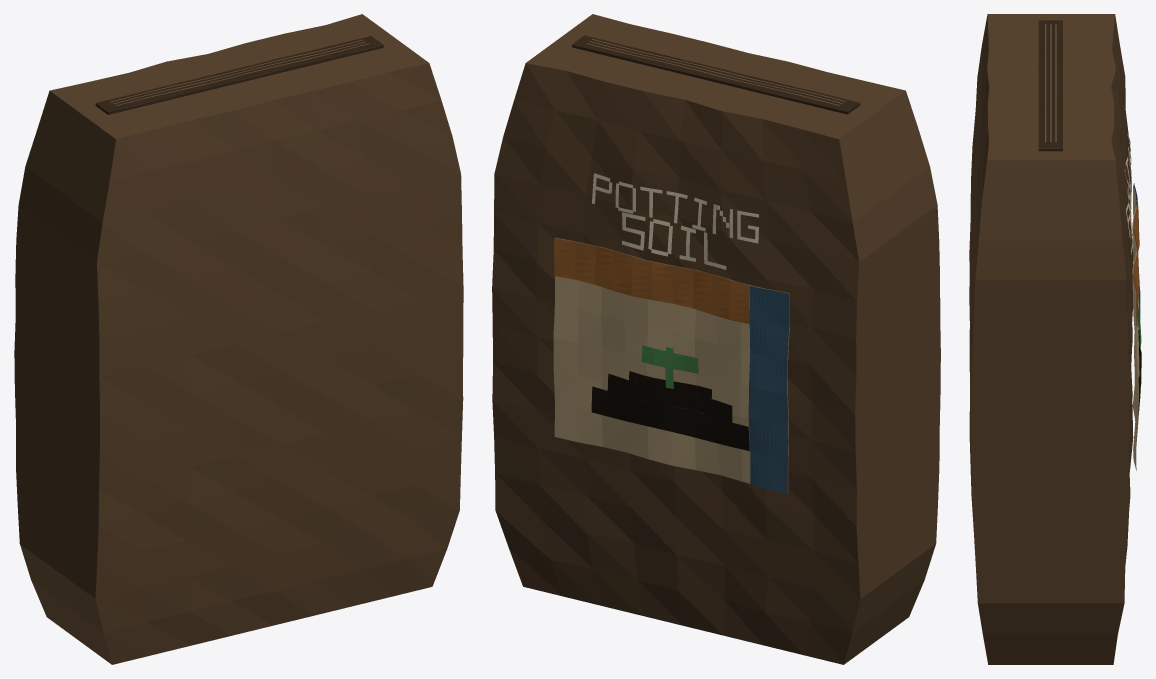
File: SM_Prop_PottingSoilBag_01.obj
The picture shows the model from 3 angles, left to right: view 1: azimuth 30°, elevation 25°; view 2: azimuth 150°, elevation 25°; view 3: azimuth 270°, elevation 25°; orthographic projection. The views are drawn at different scales.
Visible parts, largest first — view 1: SM_Prop_PottingSoilBag_01; view 2: SM_Prop_PottingSoilBag_01; view 3: SM_Prop_PottingSoilBag_01.
Part boxes in pixels (bbox=[...]): SM_Prop_PottingSoilBag_01: bbox=[14, 14, 463, 664]; SM_Prop_PottingSoilBag_01: bbox=[492, 14, 940, 664]; SM_Prop_PottingSoilBag_01: bbox=[969, 14, 1141, 664].
Size of the model in its own units: 45 by 63.04 by 19.26.
